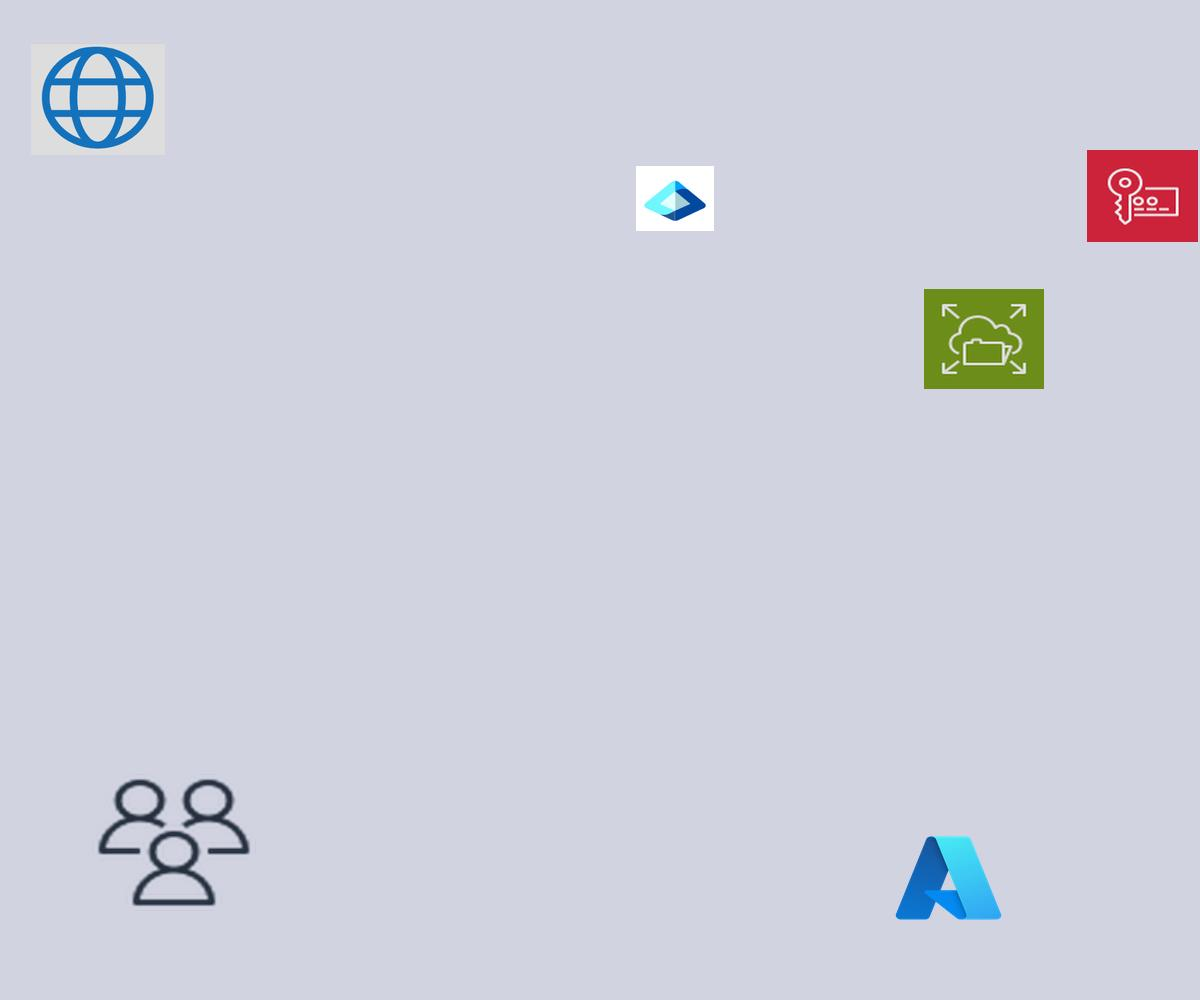AWS-EFS: (924, 289, 1044, 389)
AWS-Key-Management-Service: (1087, 150, 1198, 242)
AWS-Res_Users: (92, 774, 256, 911)
Azure_http: (31, 43, 165, 155)
Azure_microsoft_entra: (636, 166, 714, 231)
Azure_services: (891, 830, 1006, 926)
